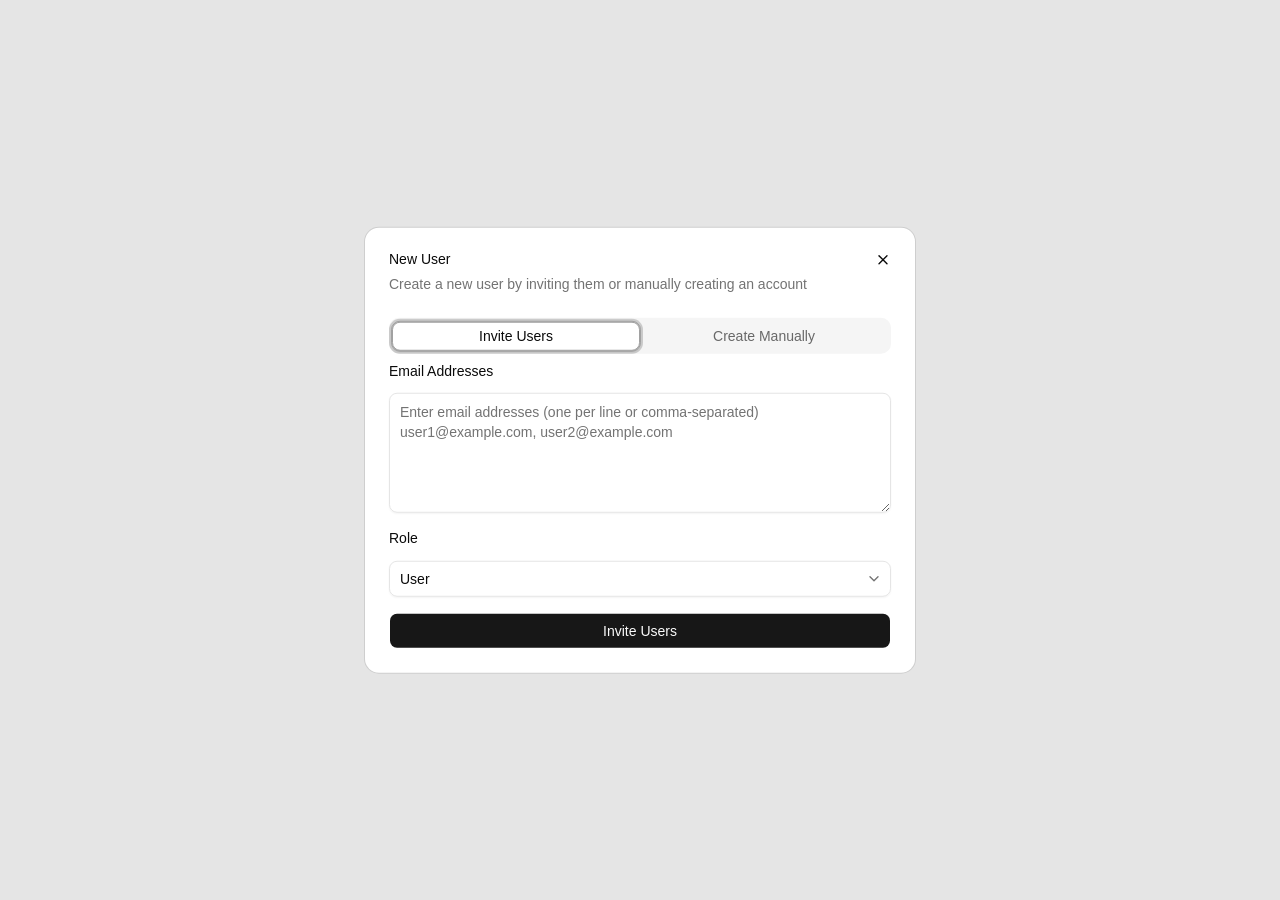
Test: CreateUserDialog › Create tab › should render all form fields
Click the tab "Create Manually" at (764, 336), box x1=640 y1=321 x2=888 y2=350
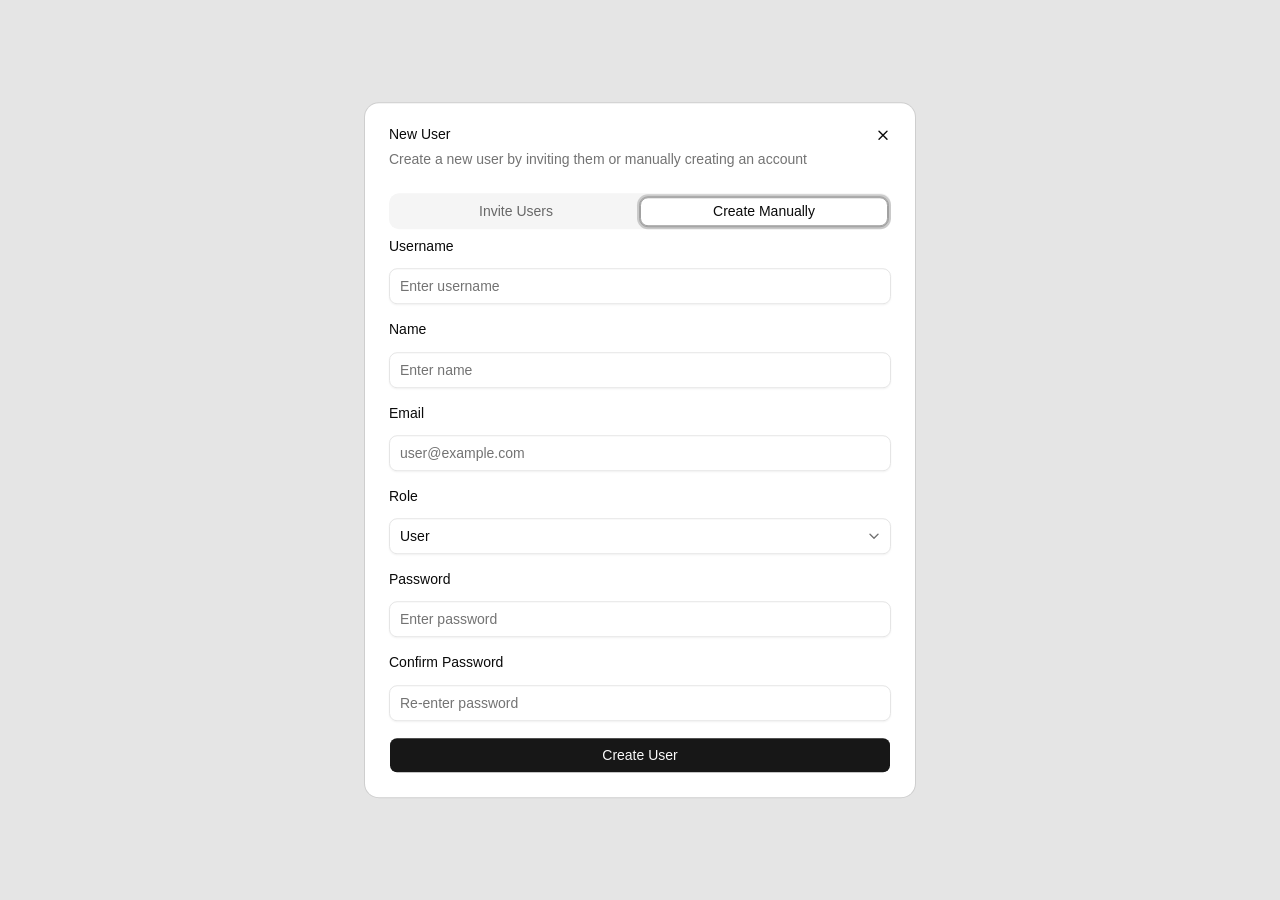
Expected: the field labelled "Username" is shown, x1=389 y1=268 x2=891 y2=304
Expected: the field labelled "Name" is shown, x1=389 y1=352 x2=891 y2=388
Expected: the field labelled "Email" is shown, x1=389 y1=435 x2=891 y2=471
